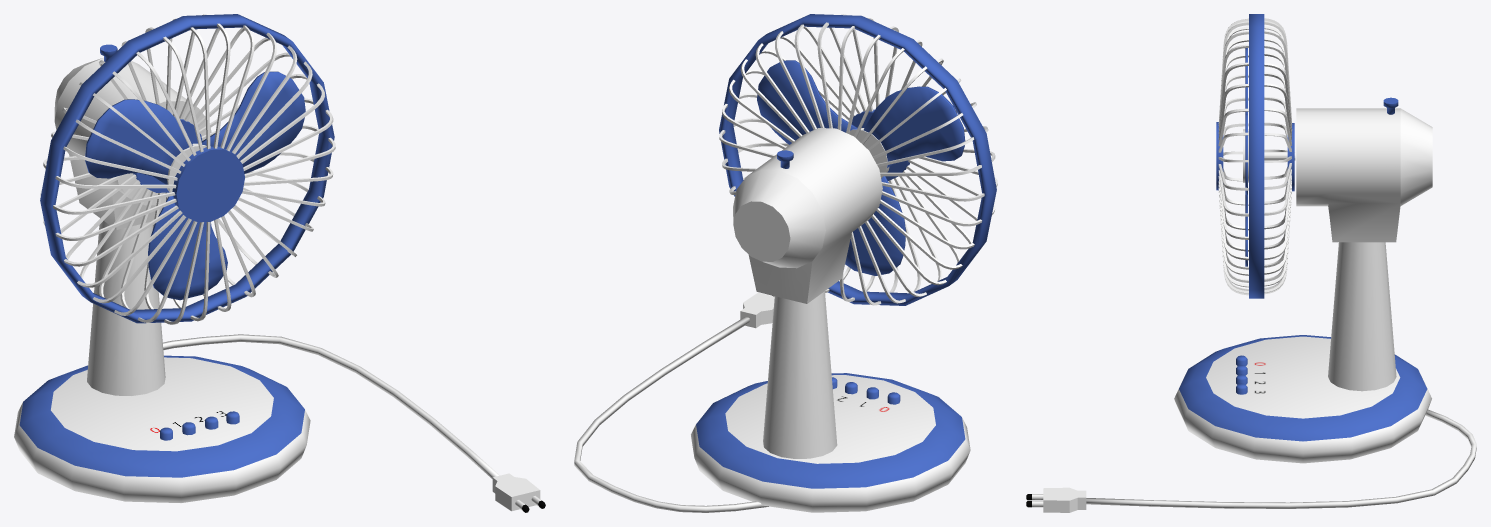
Rendered from fan.FBX.
3 views of the same model, side by side, from view 1: azimuth 30°, elevation 25°; view 2: azimuth 150°, elevation 25°; view 3: azimuth 270°, elevation 25° (orthographic). The views are drawn at different scales.
Parts seen in each view (by area): view 1: Cylinder013, Plane003, Cylinder004, Cylinder002, Line007, Line005, Cylinder003, Cylinder005, Line008, Line006, Line009, Box001; view 2: Cylinder013, Cylinder003, Plane003, Cylinder002, Cylinder004, Line008, Line006, Line009, Line007, Line005, Box001, Cylinder007; view 3: Cylinder013, Cylinder003, Cylinder002, Cylinder004, Line009, Line005, Line007, Line008, Line006, Box001, Plane003.
Boxes of the visible parts, x1,y1,x2,y2 form: Cylinder013: (14,355,310,502); Plane003: (85,71,305,300); Cylinder004: (40,14,334,323); Cylinder002: (87,221,165,395); Line007: (55,23,333,324); Line005: (53,25,335,322); Cylinder003: (54,57,211,229); Cylinder005: (172,146,244,222); Line008: (43,14,314,309); Line006: (40,18,318,309); Line009: (163,334,499,478); Box001: (492,473,540,511); Cylinder013: (691,373,970,512); Cylinder003: (733,128,882,303); Plane003: (757,60,965,275); Cylinder002: (763,291,837,458); Cylinder004: (719,14,996,305); Line008: (722,22,982,305); Line006: (719,24,984,303); Line009: (574,317,768,512); Line007: (737,14,995,292); Line005: (733,18,997,291); Box001: (740,292,774,328); Cylinder007: (849,128,889,178); Cylinder013: (1174,335,1431,463); Cylinder003: (1296,108,1432,242); Cylinder002: (1328,242,1396,391); Cylinder004: (1249,14,1264,298); Line009: (1086,409,1476,508); Line005: (1218,18,1248,295); Line007: (1218,21,1248,293); Line008: (1264,20,1292,292); Line006: (1264,18,1291,294); Box001: (1043,487,1086,512); Plane003: (1245,48,1247,266).
Size of the model in its own units: 76.13 by 87.82 by 92.2.
4 materials, 1 textured.
